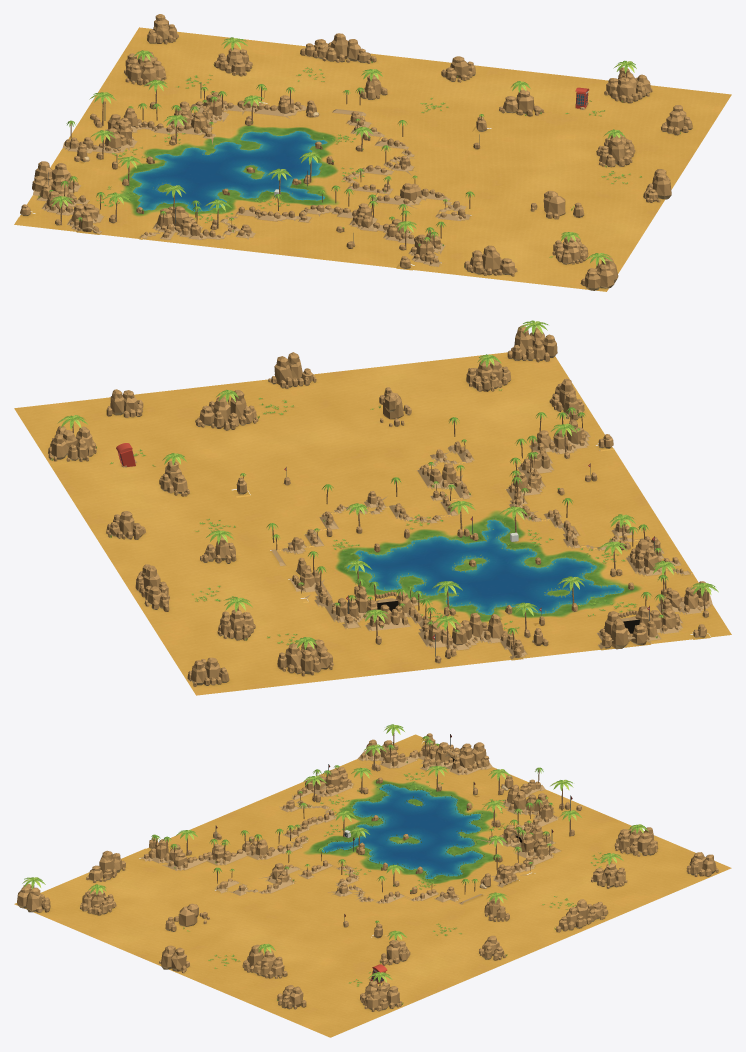
File: hm17-terrain-props.glb
3 renders of one model, top to bottom at view 1: azimuth 30°, elevation 25°; view 2: azimuth 150°, elevation 25°; view 3: azimuth 270°, elevation 25°, orthographic. The views are drawn at different scales.
Parts seen in each view (by area): view 1: HM17-chunk-3-4-ground-support, HM17-chunk-4-4-ground-support, HM17-chunk-3-3-ground-support, HM17-chunk-4-3-ground-support, HM17-chunk-0-2-ground-support, HM17-chunk-2-4-ground-support, HM17-chunk-1-4-ground-support, HM17-chunk-2-5-ground-support, HM17-chunk-1-5-ground-support, HM17-chunk-5-3-ground-support, HM17-chunk-4-2-ground-support, HM17-chunk-0-3-ground-support (+59 smaller); view 2: HM17-chunk-2-4-ground-support, HM17-chunk-3-4-ground-support, HM17-chunk-3-3-ground-support, HM17-chunk-4-3-ground-support, HM17-chunk-1-4-ground-support, HM17-chunk-1-5-ground-support, HM17-chunk-5-4-ground-support, HM17-chunk-2-5-ground-support, HM17-chunk-5-3-ground-support, HM17-chunk-4-4-ground-support, HM17-chunk-4-1-ground-support, HM17-chunk-0-2-ground-support (+54 smaller); view 3: HM17-chunk-2-4-ground-support, HM17-chunk-3-3-ground-support, HM17-chunk-1-5-ground-support, HM17-chunk-3-4-ground-support, HM17-chunk-5-5-ground-support, HM17-chunk-4-4-ground-support, HM17-chunk-5-3-ground-support, HM17-chunk-5-2-ground-support, HM17-chunk-0-2-ground-support, HM17-chunk-4-3-ground-support, HM17-chunk-1-4-ground-support, HM17-chunk-4-1-ground-support (+55 smaller).
Boxes of the visible parts, left/top/right/bottom form: HM17-chunk-3-4-ground-support: left=474, top=136, right=591, bottom=181; HM17-chunk-4-4-ground-support: left=492, top=108, right=611, bottom=148; HM17-chunk-3-3-ground-support: left=369, top=126, right=494, bottom=170; HM17-chunk-4-3-ground-support: left=389, top=94, right=508, bottom=136; HM17-chunk-0-2-ground-support: left=208, top=214, right=332, bottom=258; HM17-chunk-2-4-ground-support: left=451, top=171, right=570, bottom=214; HM17-chunk-1-4-ground-support: left=436, top=203, right=547, bottom=247; HM17-chunk-2-5-ground-support: left=560, top=182, right=665, bottom=225; HM17-chunk-1-5-ground-support: left=529, top=216, right=648, bottom=258; HM17-chunk-5-3-ground-support: left=415, top=61, right=534, bottom=103; HM17-chunk-4-2-ground-support: left=295, top=82, right=414, bottom=125; HM17-chunk-0-3-ground-support: left=309, top=223, right=415, bottom=267; HM17-chunk-2-4-ground-support: left=312, top=417, right=433, bottom=472; HM17-chunk-3-4-ground-support: left=223, top=426, right=338, bottom=484; HM17-chunk-3-3-ground-support: left=250, top=470, right=377, bottom=534; HM17-chunk-4-3-ground-support: left=164, top=485, right=283, bottom=541; HM17-chunk-1-4-ground-support: left=402, top=405, right=525, bottom=463; HM17-chunk-1-5-ground-support: left=371, top=357, right=490, bottom=415; HM17-chunk-5-4-ground-support: left=44, top=446, right=163, bottom=503; HM17-chunk-2-5-ground-support: left=288, top=368, right=385, bottom=425; HM17-chunk-5-3-ground-support: left=75, top=494, right=194, bottom=551; HM17-chunk-4-4-ground-support: left=134, top=436, right=250, bottom=493; HM17-chunk-4-1-ground-support: left=225, top=582, right=344, bottom=637; HM17-chunk-0-2-ground-support: left=551, top=489, right=670, bottom=549; HM17-chunk-2-4-ground-support: left=195, top=892, right=301, bottom=942; HM17-chunk-3-3-ground-support: left=303, top=885, right=429, bottom=936; HM17-chunk-1-5-ground-support: left=67, top=898, right=178, bottom=948; HM17-chunk-3-4-ground-support: left=239, top=917, right=361, bottom=964; HM17-chunk-5-5-ground-support: left=278, top=987, right=396, bottom=1037; HM17-chunk-4-4-ground-support: left=292, top=937, right=410, bottom=987; HM17-chunk-5-3-ground-support: left=412, top=931, right=530, bottom=981; HM17-chunk-5-2-ground-support: left=479, top=902, right=597, bottom=952; HM17-chunk-0-2-ground-support: left=215, top=791, right=334, bottom=839; HM17-chunk-4-3-ground-support: left=362, top=907, right=477, bottom=958; HM17-chunk-1-4-ground-support: left=134, top=868, right=252, bottom=916; HM17-chunk-4-1-ground-support: left=507, top=852, right=597, bottom=902.
Size of the model in its own units: 144 by 7.15 by 144.
Materials: 3 (2 with a texture image).
